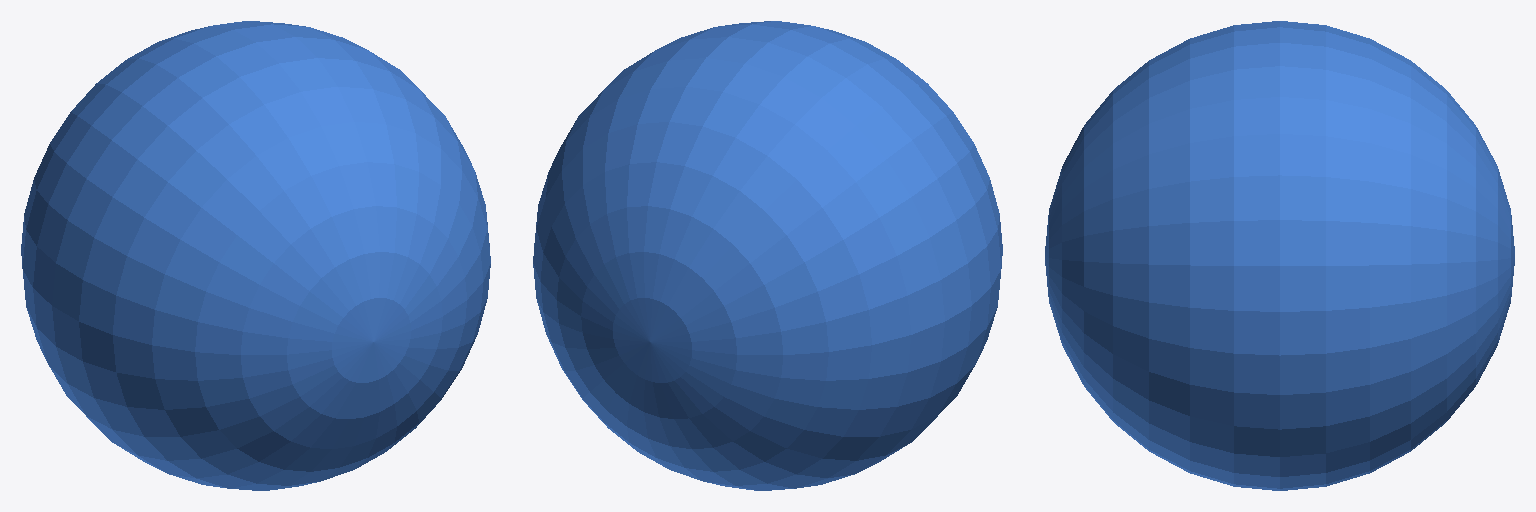
The model's file is palla.obj.
3 views of the same model, side by side, from view 1: azimuth 30°, elevation 25°; view 2: azimuth 150°, elevation 25°; view 3: azimuth 270°, elevation 25° (orthographic).
Visible parts, largest first — view 1: Sphere001; view 2: Sphere001; view 3: Sphere001.
Part boxes in pixels (bbox=[...]): Sphere001: bbox=[21, 21, 490, 490]; Sphere001: bbox=[533, 21, 1002, 490]; Sphere001: bbox=[1045, 21, 1514, 490].
Bounding box in the file's own units: 2.75 × 2.75 × 2.75.